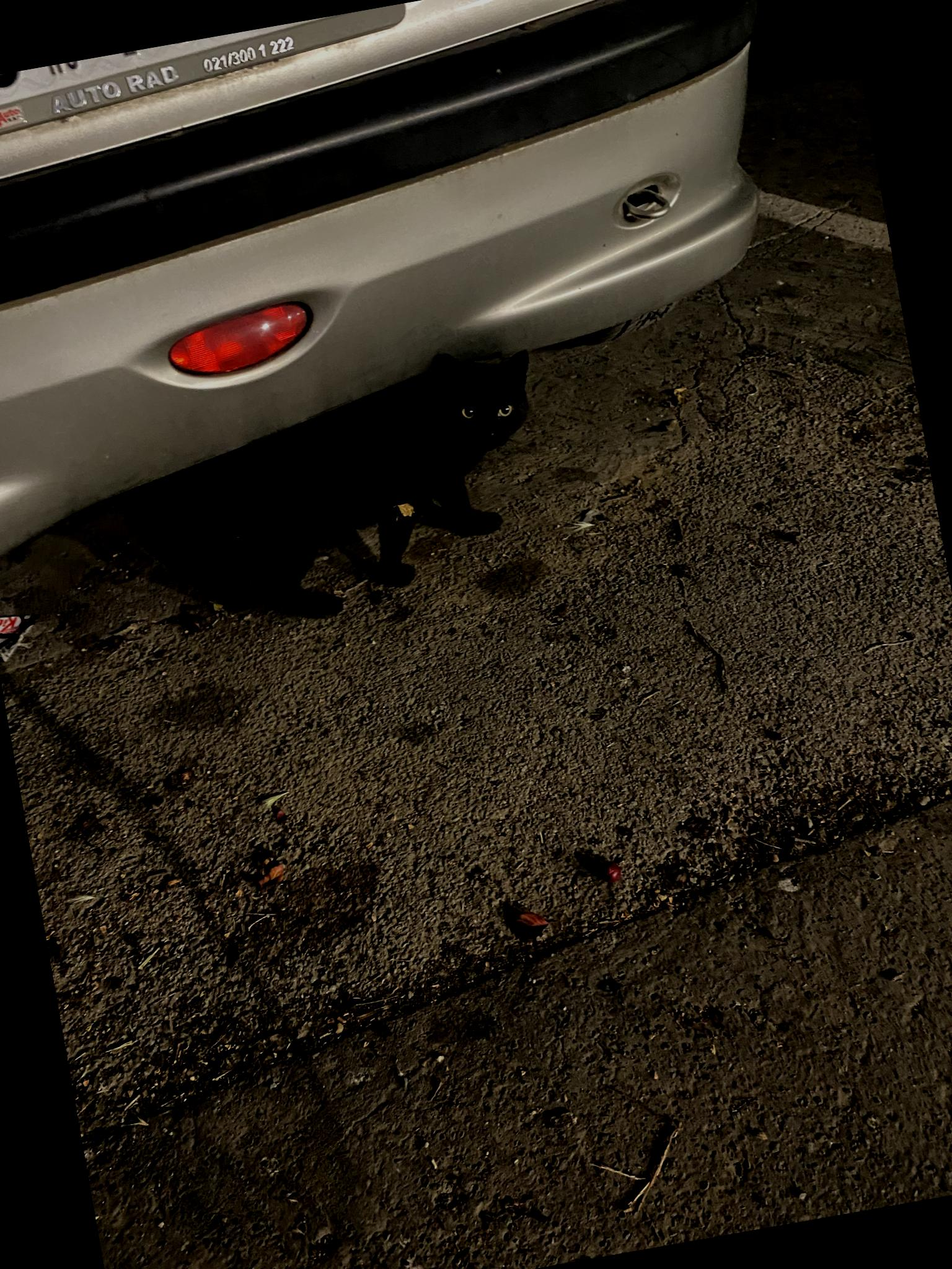macka: (171, 336, 570, 638)
